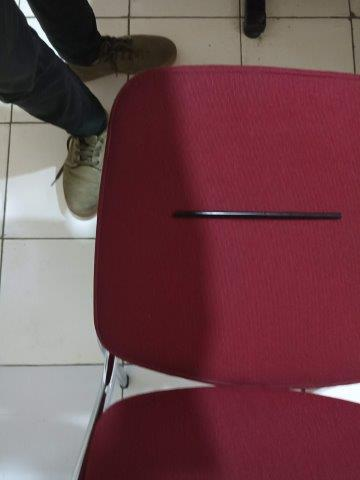sedotan: (173, 211, 342, 220)
